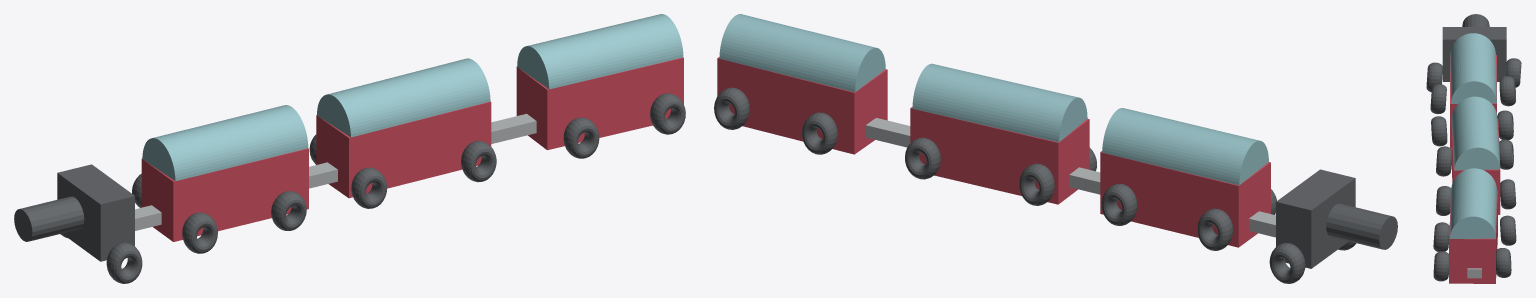
The model's file is Train.glb.
3 renders of one model, left to right at view 1: azimuth 30°, elevation 25°; view 2: azimuth 150°, elevation 25°; view 3: azimuth 270°, elevation 25°, orthographic. The views are drawn at different scales.
Parts seen in each view (by area): view 1: Mesh_Mesh_head_geo.001_lambert2SG.001; view 2: Mesh_Mesh_head_geo.001_lambert2SG.001; view 3: Mesh_Mesh_head_geo.001_lambert2SG.001.
Part boxes in pixels (x1,y1,x2,y2): Mesh_Mesh_head_geo.001_lambert2SG.001: (14,14,685,283); Mesh_Mesh_head_geo.001_lambert2SG.001: (714,14,1397,283); Mesh_Mesh_head_geo.001_lambert2SG.001: (1426,14,1521,283).
Size of the model in its own units: 224 by 36 by 38.62.
